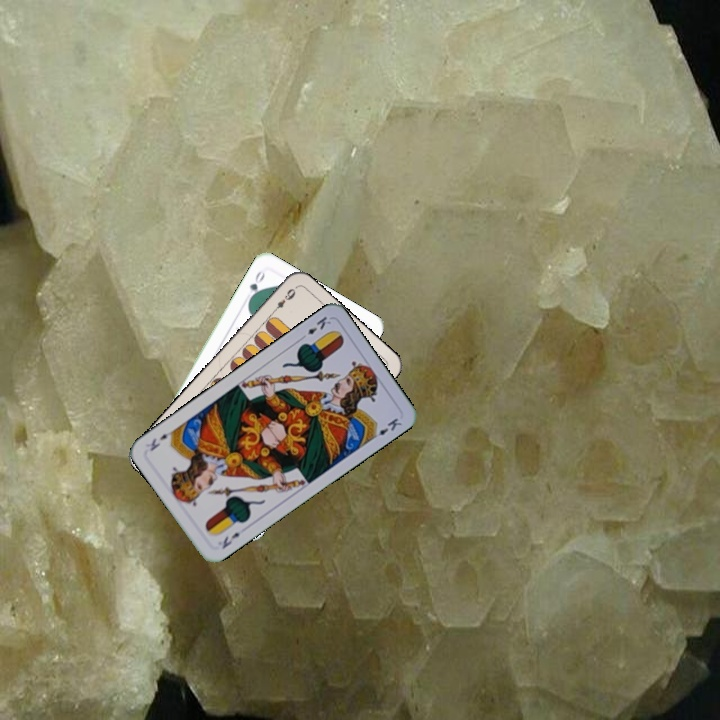E9: (268, 284, 298, 317)
EK: (296, 312, 334, 343), (218, 528, 243, 552)
GO: (245, 266, 267, 304)
